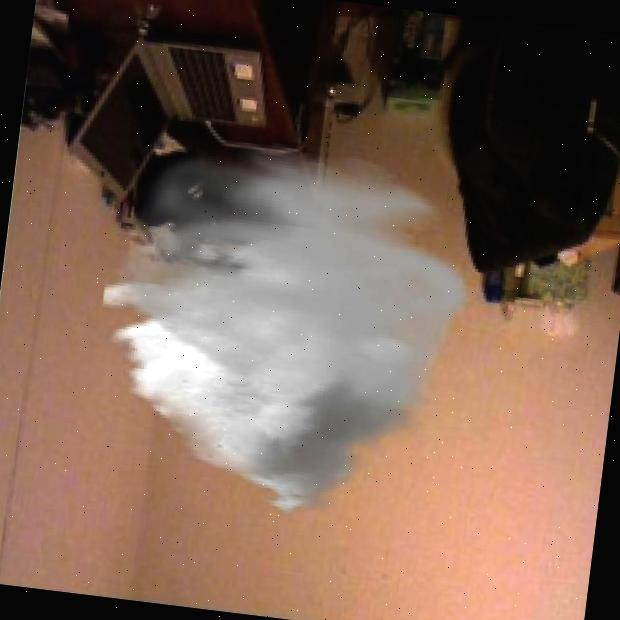smoke: (79, 125, 490, 536)
